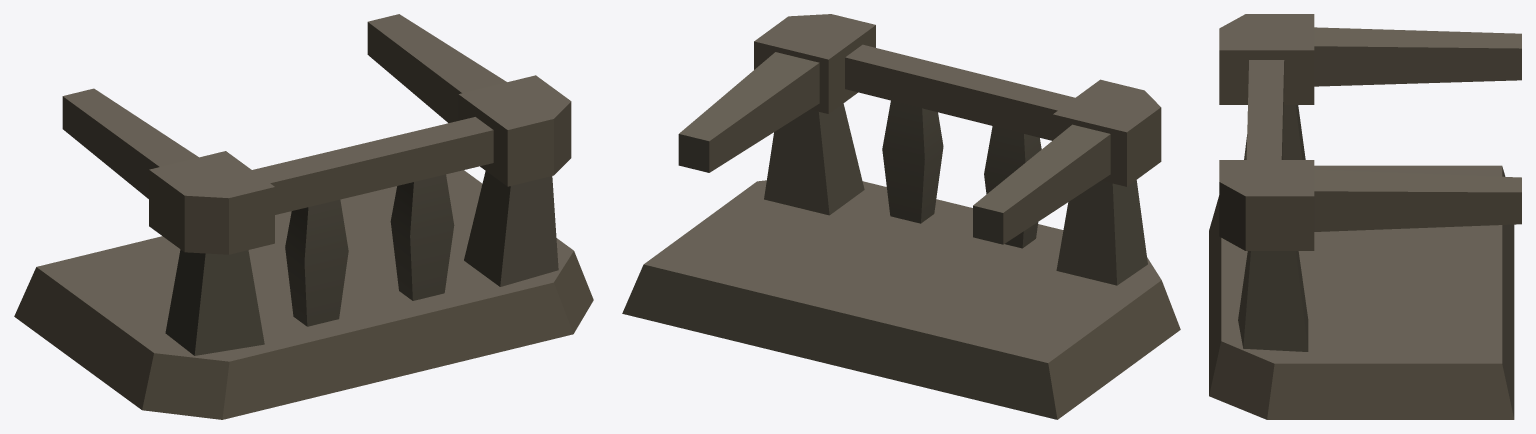
The model's file is Balcony_C2.fbx.
3 renders of one model, left to right at view 1: azimuth 30°, elevation 25°; view 2: azimuth 150°, elevation 25°; view 3: azimuth 270°, elevation 25°, orthographic. The views are drawn at different scales.
Parts seen in each view (by area): view 1: Balcony_C2; view 2: Balcony_C2; view 3: Balcony_C2.
Boxes of the visible parts, box(x1,y1,x2,y2) form: Balcony_C2: box(14, 14, 593, 419); Balcony_C2: box(622, 14, 1180, 419); Balcony_C2: box(1209, 14, 1521, 419).
Size of the model in its own units: 293 by 133 by 182.
